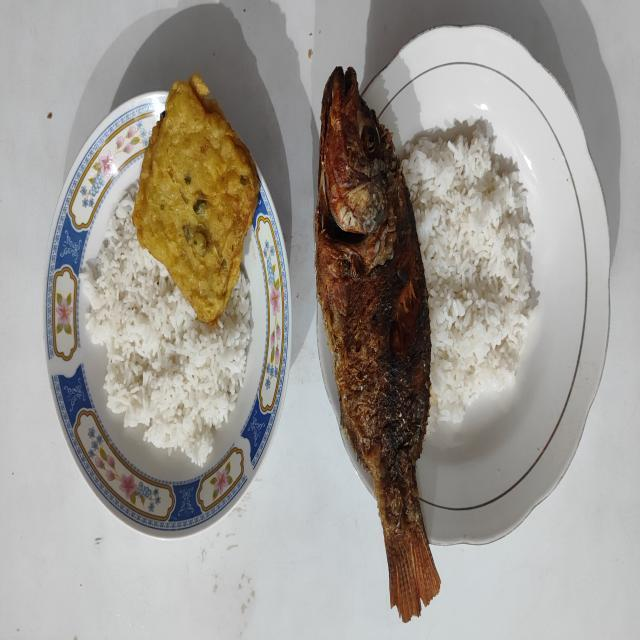ikan_mujair: (315, 67, 441, 622)
nasi_putih: (84, 182, 252, 466), (402, 119, 537, 428)
